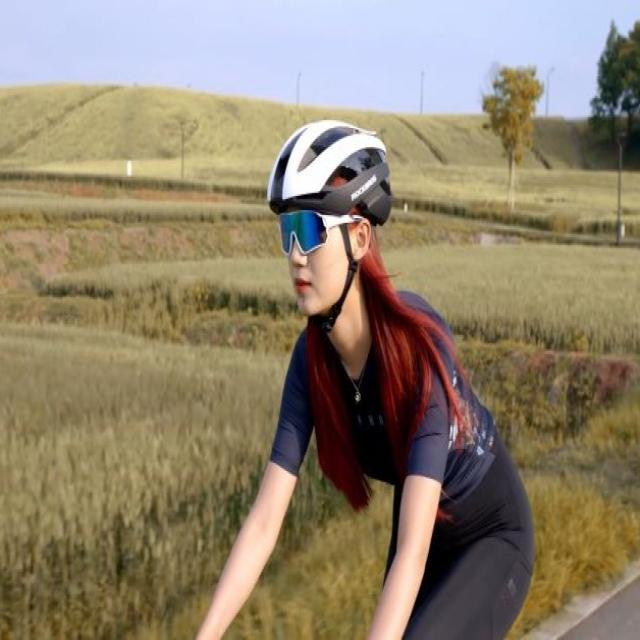1-2-helmet: (266, 119, 393, 223)
